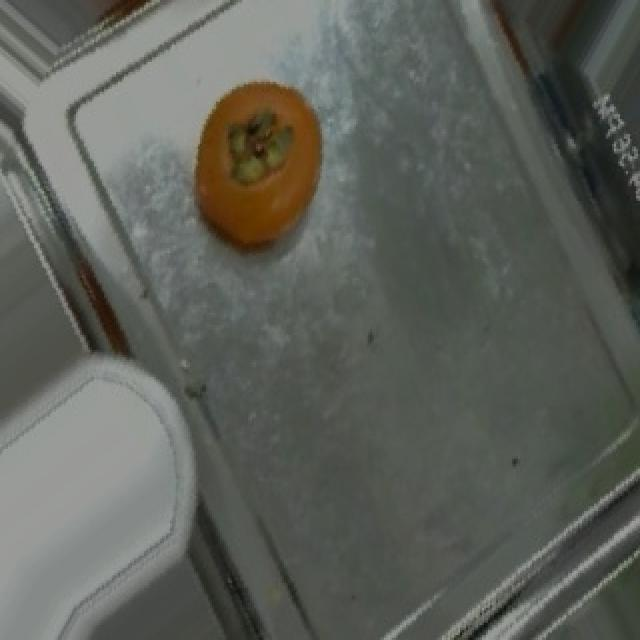Fruit: (170, 62, 346, 268)
